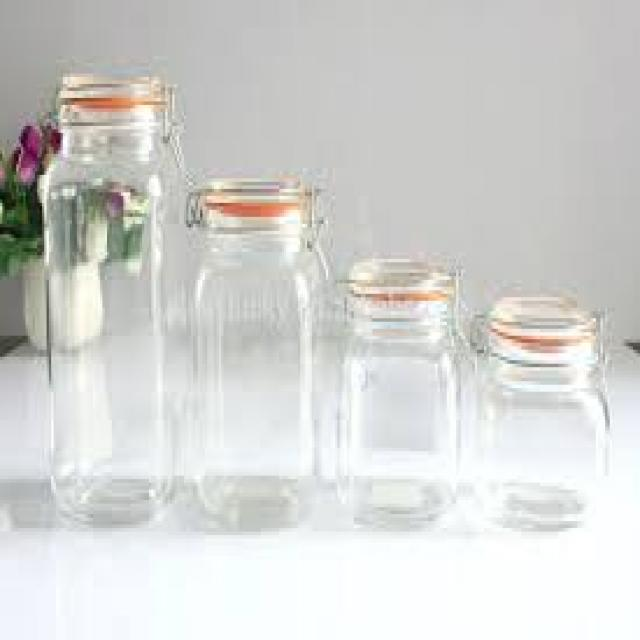organic waste: (0, 140, 40, 266), (102, 192, 142, 259), (12, 147, 44, 182), (14, 122, 47, 154), (42, 119, 63, 150), (100, 186, 121, 213)
